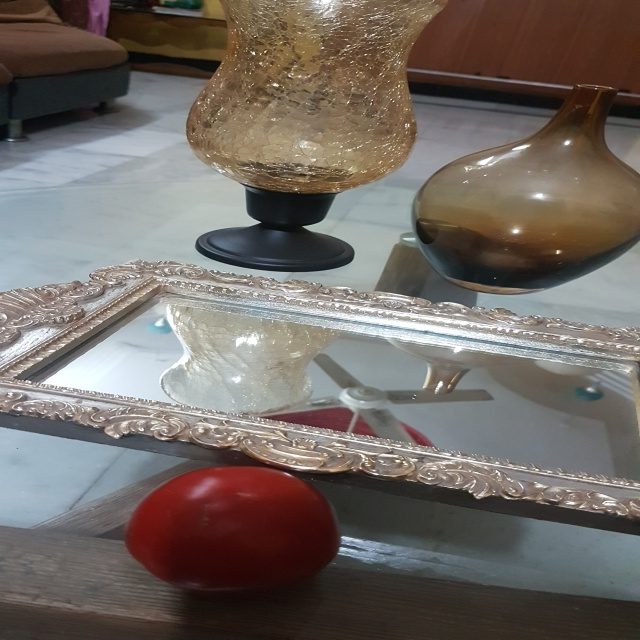tomato: (127, 457, 350, 606)
